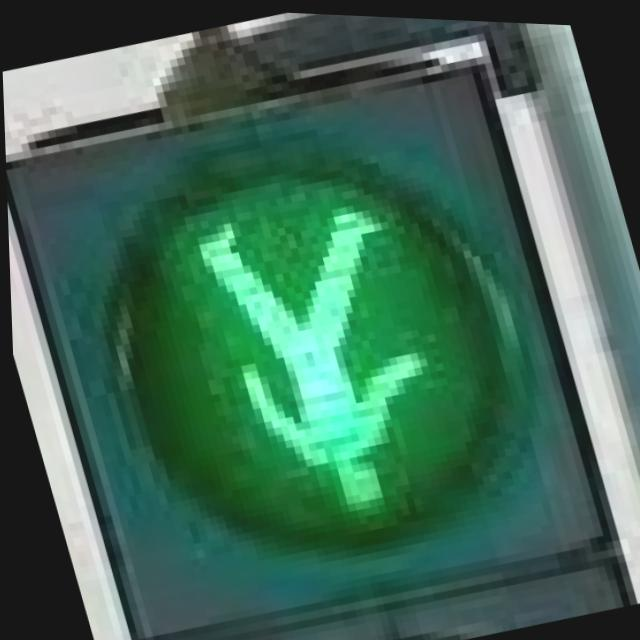green_light: (153, 173, 467, 566)
